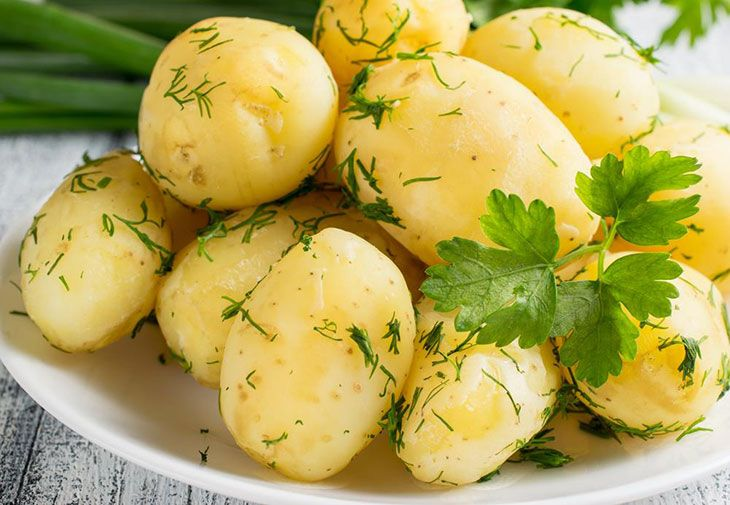boiled potatoes: (157, 41, 375, 445)
